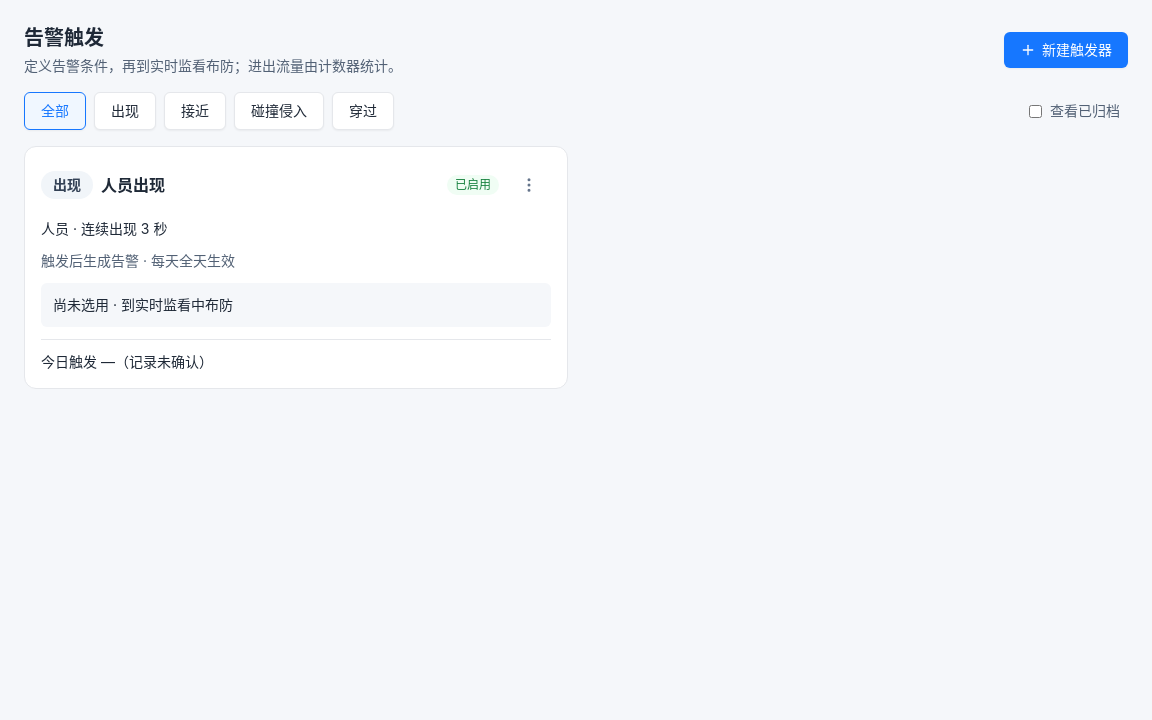
Test: 卡片保留列表背景，编辑弹窗可取消，不把统计失败显示成零
Expected: the element "人员出现" shows "尚未选用", [53,296,233,313]
Expected: the element "人员出现" shows "记录未确认", [41,353,213,370]
Click the button named "更多操作": (529, 185) [507,163,551,207]
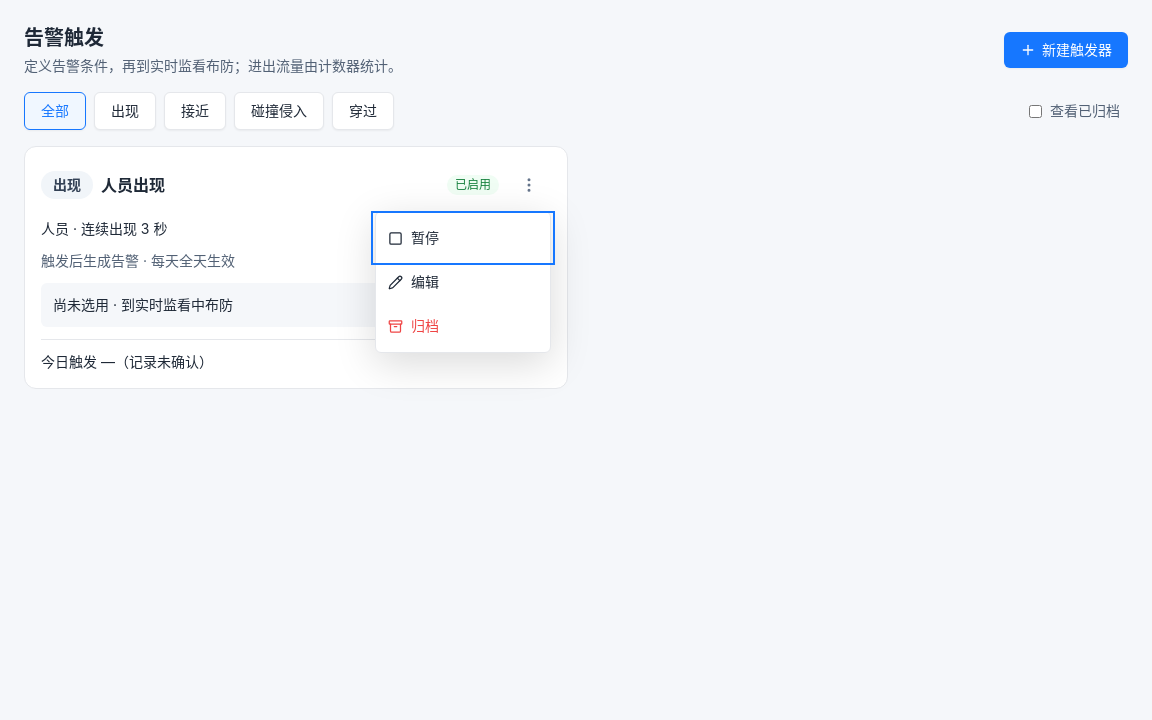
Click the menu item "编辑": (463, 282) [376,260,550,304]
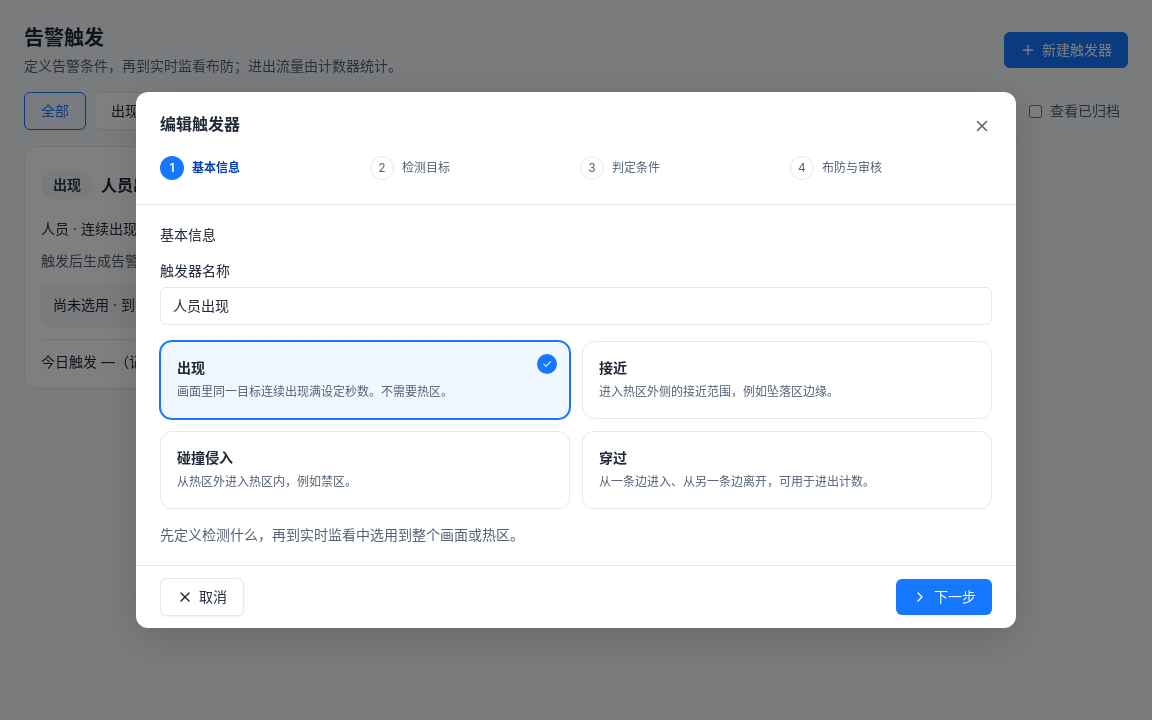
Expected: the element "人员出现" is shown, [24,146,568,389]
Expected: the dialog "编辑触发器" is shown, [136,92,1016,628]
Click the button "取消": (202, 597) [160,578,244,616]
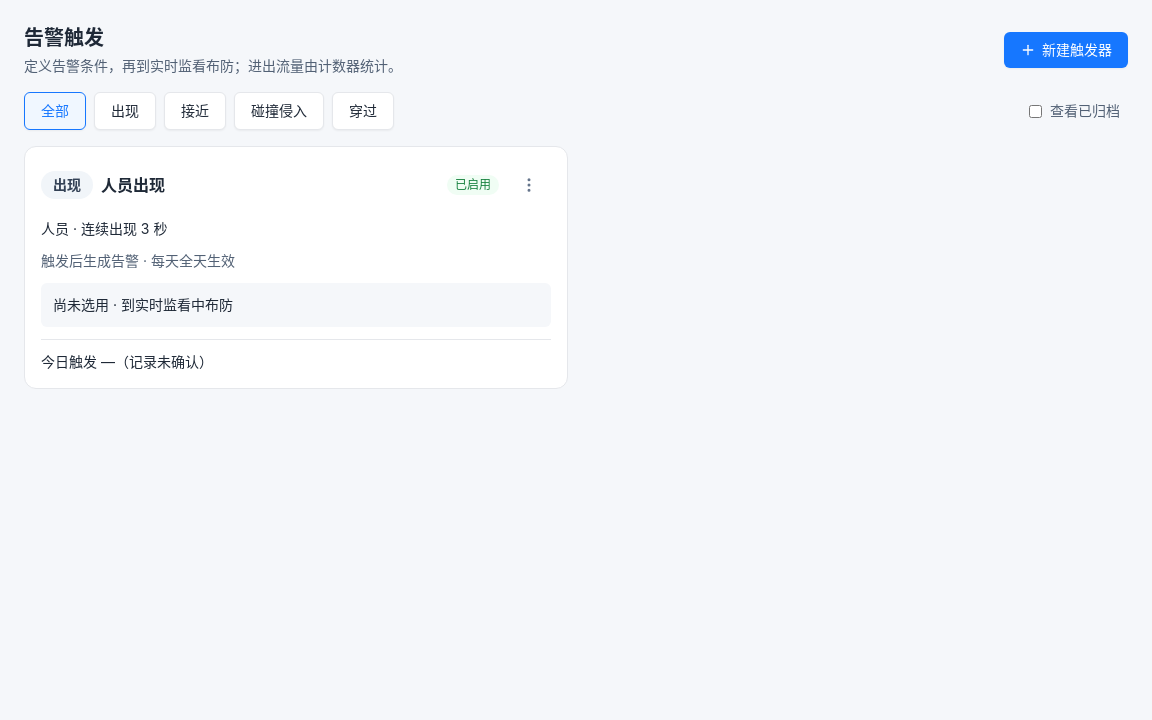
Expected: the dialog is gone
